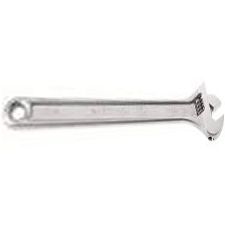Wrench: (5, 76, 225, 147)
